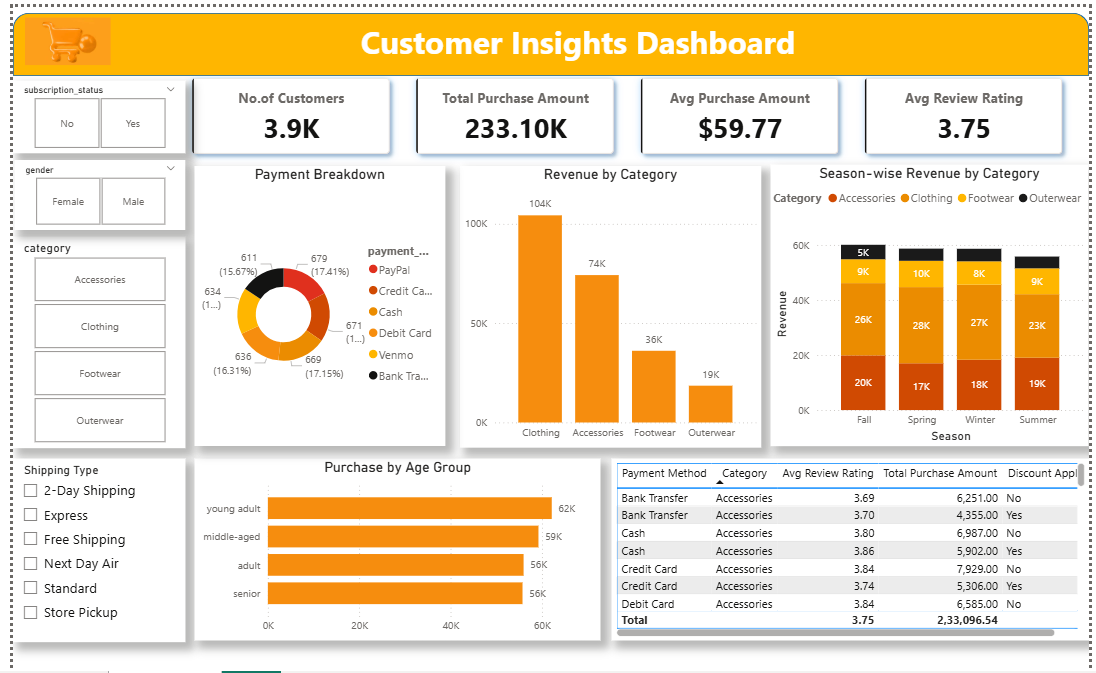

Layout of this report page (visuals, bound fields, positions):
{"tool":"powerbi","page":{"name":"Page 1","canvas":[1280,800],"ordinal":0},"visuals":[{"type":"cardVisual","fields":{"Data":["customer_data.No.of Customers","customer_data.Total Purchase Amount","customer_data.Avg Purchase Amount","customer_data.Avg Review Rating"]},"box":[183.3,55,1096.7,148.3],"z":0},{"type":"shape","box":[0,6.3,1281,75.1],"z":1000},{"type":"textbox","box":[409.7,11.3,712.5,63.1],"z":2000},{"type":"clusteredColumnChart","title":"Revenue by Category","fields":{"Category":["customer_data.category"],"Y":["Sum(customer_data.purchase_amount_usd)"]},"box":[531.7,190,358.3,335],"z":3000},{"type":"columnChart","title":"Season-wise Revenue by Category","fields":{"Category":["customer_data.season"],"Series":["customer_data.category"],"Y":["Sum(customer_data.purchase_amount_usd)"]},"box":[901.7,188.3,378.3,335],"z":4000},{"type":"slicer","fields":{"Values":["customer_data.subscription_status"]},"box":[0,86.7,205,86.7],"z":5000},{"type":"slicer","fields":{"Values":["customer_data.category"]},"box":[0,273.3,205,251.7],"z":6000},{"type":"slicer","fields":{"Values":["customer_data.gender"]},"box":[1.7,181.7,203.3,83.3],"z":7000},{"type":"slicer","fields":{"Values":["customer_data.shipping_type"]},"box":[0,536.7,205,218.3],"z":8000},{"type":"clusteredBarChart","title":"Purchase by Age Group","fields":{"Category":["customer_data.age_group"],"Y":["Sum(customer_data.purchase_amount_usd)"]},"box":[216.7,538.3,483.3,216.7],"z":9000},{"type":"donutChart","title":"Payment Breakdown","fields":{"Category":["customer_data.payment_method"],"Y":["CountNonNull(customer_data.purchase_amount_usd)"]},"box":[216.7,190,298.3,333.3],"z":10000},{"type":"tableEx","fields":{"Values":["customer_data.payment_method","customer_data.category","customer_data.Avg Review Rating","customer_data.Total Purchase Amount","customer_data.discount_applied"]},"box":[711.7,538.3,568.3,216.7],"z":11000},{"type":"image","box":[14.1,7.8,101.7,67.3],"z":11001}]}

Visuals, with their boxes in screenshot pixels (x1, y1, x2, y2), scaled from the page's 1280x800 canvas onto the 1096x673 screenshot:
cardVisual - customer_data.No.of Customers x customer_data.Total Purchase Amount: BBox(157, 46, 1095, 171)
shape: BBox(0, 5, 1095, 68)
textbox: BBox(351, 10, 961, 63)
"Revenue by Category" clusteredColumnChart: BBox(455, 160, 762, 442)
"Season-wise Revenue by Category" columnChart: BBox(772, 158, 1095, 440)
slicer - customer_data.subscription_status: BBox(0, 73, 176, 146)
slicer - customer_data.category: BBox(0, 230, 176, 442)
slicer - customer_data.gender: BBox(1, 153, 176, 223)
slicer - customer_data.shipping_type: BBox(0, 451, 176, 635)
"Purchase by Age Group" clusteredBarChart: BBox(186, 453, 599, 635)
"Payment Breakdown" donutChart: BBox(186, 160, 441, 440)
tableEx - customer_data.payment_method x customer_data.category: BBox(609, 453, 1095, 635)
image: BBox(12, 7, 99, 63)
